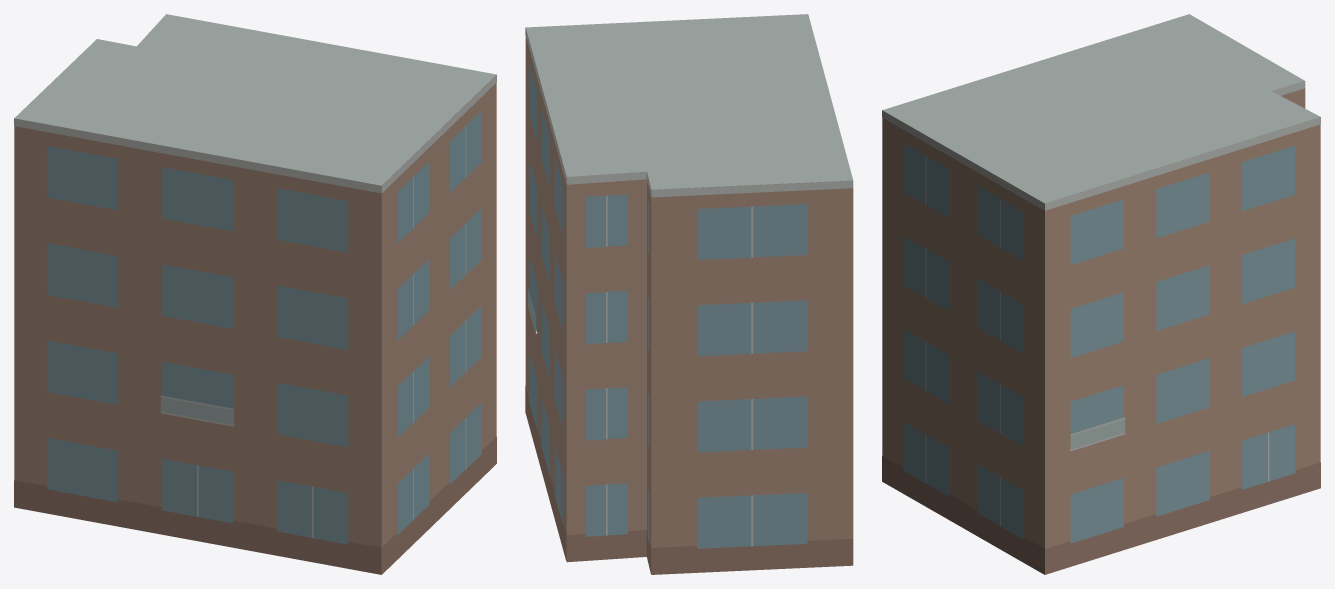
The model's file is survey-upis-32699704.glb.
3 renders of one model, left to right at view 1: azimuth 30°, elevation 25°; view 2: azimuth 150°, elevation 25°; view 3: azimuth 270°, elevation 25°, orthographic. The views are drawn at different scales.
Visible parts, largest first — view 1: survey-upis-32699704.tmp; view 2: survey-upis-32699704.tmp; view 3: survey-upis-32699704.tmp.
Boxes of the visible parts, <box> form: survey-upis-32699704.tmp: <box>14,14,496,574</box>; survey-upis-32699704.tmp: <box>525,14,853,574</box>; survey-upis-32699704.tmp: <box>882,14,1320,574</box>.
Size of the model in its own units: 13.36 by 12.2 by 13.07.
